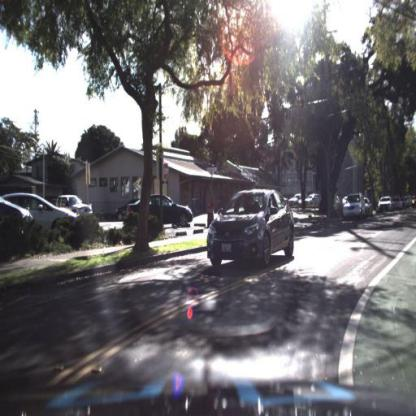car: (206, 185, 297, 267), (1, 191, 81, 241), (128, 195, 193, 229), (60, 189, 98, 222), (53, 194, 96, 221), (341, 192, 365, 224), (376, 195, 395, 216), (363, 192, 375, 219), (390, 195, 404, 214), (403, 193, 415, 215), (411, 194, 416, 215)
